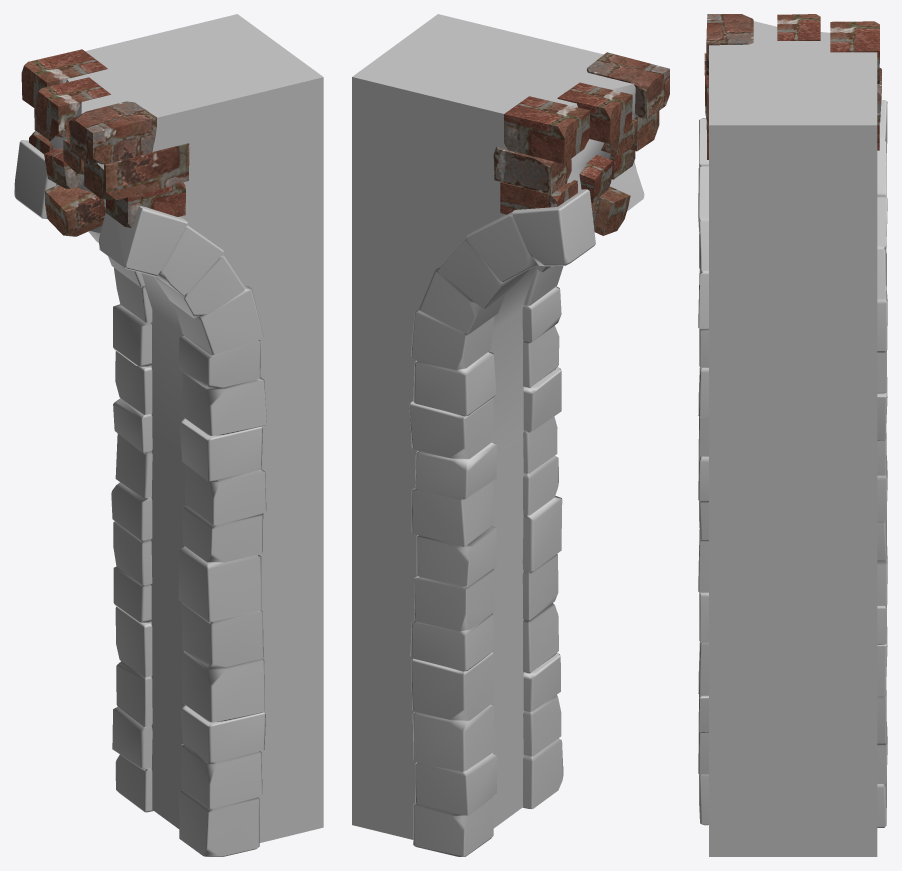
The model's file is SM_Archway_Thick_Ruined_02.fbx.
3 renders of one model, left to right at view 1: azimuth 30°, elevation 25°; view 2: azimuth 150°, elevation 25°; view 3: azimuth 270°, elevation 25°, orthographic. The views are drawn at different scales.
Visible parts, largest first — view 1: SM_Archway_Thick_Ruined_02_LOD0; view 2: SM_Archway_Thick_Ruined_02_LOD0; view 3: SM_Archway_Thick_Ruined_02_LOD0.
Boxes of the visible parts, <box> form: SM_Archway_Thick_Ruined_02_LOD0: <box>14,14,323,856</box>; SM_Archway_Thick_Ruined_02_LOD0: <box>352,14,669,856</box>; SM_Archway_Thick_Ruined_02_LOD0: <box>698,14,887,856</box>.
Size of what is drawn, in the model's own units: 194 by 604 by 141.
